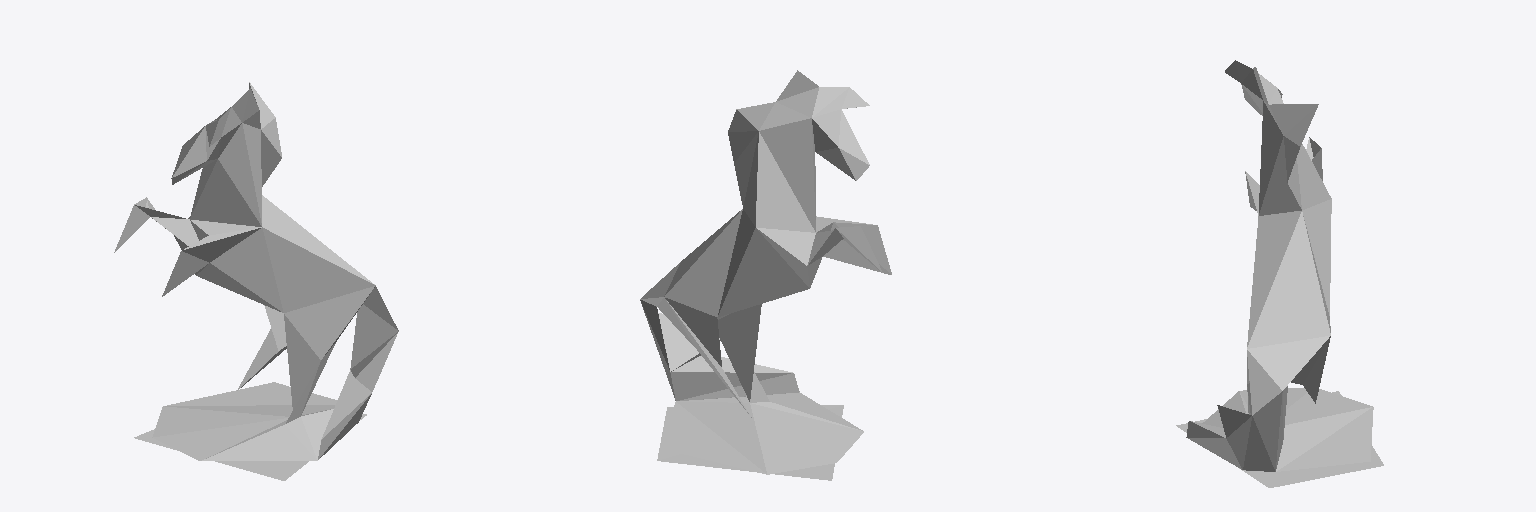
The model's file is full_horse_statue_01_1k_LOD_4.obj.
The picture shows the model from 3 angles: view 1: azimuth 30°, elevation 25°; view 2: azimuth 150°, elevation 25°; view 3: azimuth 270°, elevation 25°; orthographic projection.
Visible parts, largest first — view 1: "horse_statue_01_1k_LOD_4"; view 2: "horse_statue_01_1k_LOD_4"; view 3: "horse_statue_01_1k_LOD_4".
Part boxes in pixels (x1,y1,x2,y2): "horse_statue_01_1k_LOD_4": (114, 82, 398, 480); "horse_statue_01_1k_LOD_4": (640, 70, 891, 480); "horse_statue_01_1k_LOD_4": (1176, 60, 1383, 487).
Bounding box in the file's own units: 0.1537 × 0.2063 × 0.1079.